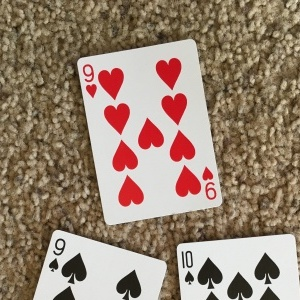card: (75, 39, 225, 225)
